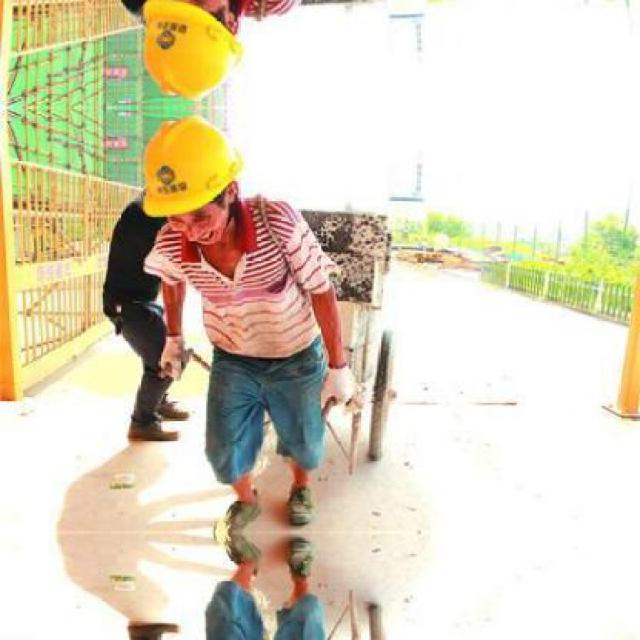helmet: (126, 105, 262, 261), (126, 0, 263, 108)
